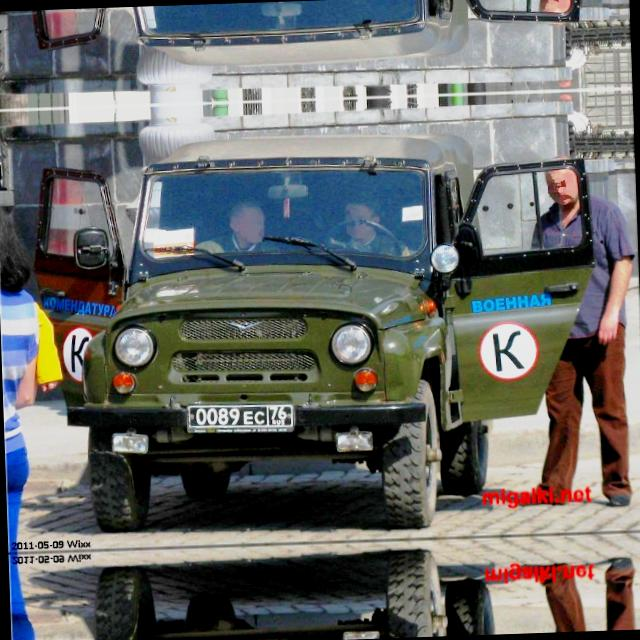military: (179, 394, 302, 440)
